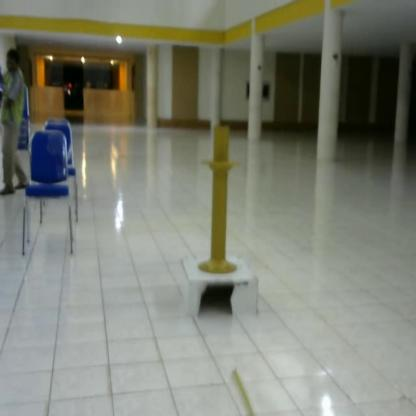pole: (198, 126, 245, 279)
